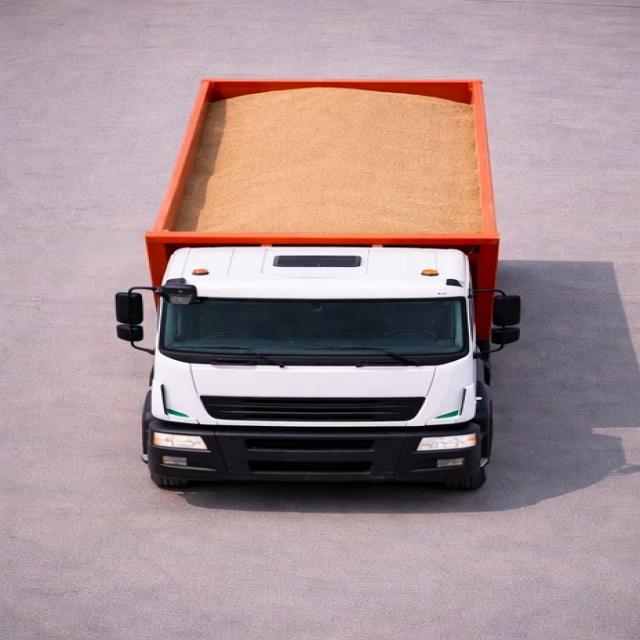Box: (147, 76, 496, 244)
Truck: (113, 53, 528, 489)
